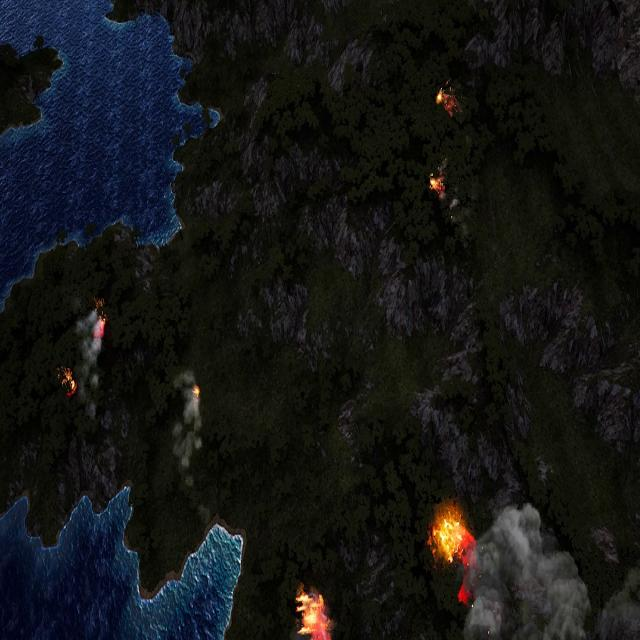fire: (430, 509, 473, 564), (296, 587, 327, 638), (436, 87, 457, 116), (93, 301, 108, 341), (61, 368, 78, 397), (428, 170, 445, 199), (192, 381, 201, 398)
smoke: (461, 502, 638, 640), (72, 298, 102, 422), (173, 366, 206, 476)
